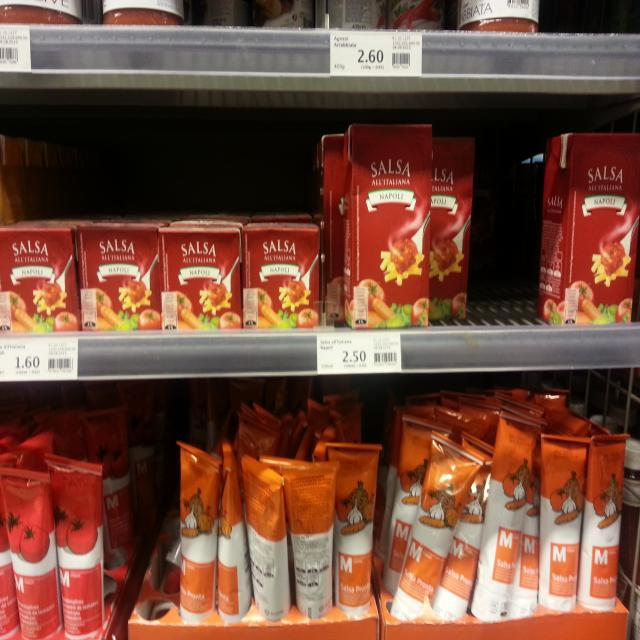Sauce: (542, 128, 640, 327), (390, 439, 480, 640), (345, 126, 432, 333), (469, 414, 543, 638), (325, 441, 385, 640), (378, 424, 448, 594), (278, 459, 340, 640), (46, 462, 108, 640), (0, 472, 62, 640), (239, 452, 293, 640), (161, 218, 244, 336), (420, 146, 473, 327), (174, 446, 223, 640), (0, 226, 84, 337), (79, 228, 162, 337), (538, 435, 582, 640), (579, 424, 628, 608), (243, 222, 322, 327), (217, 446, 254, 640)
